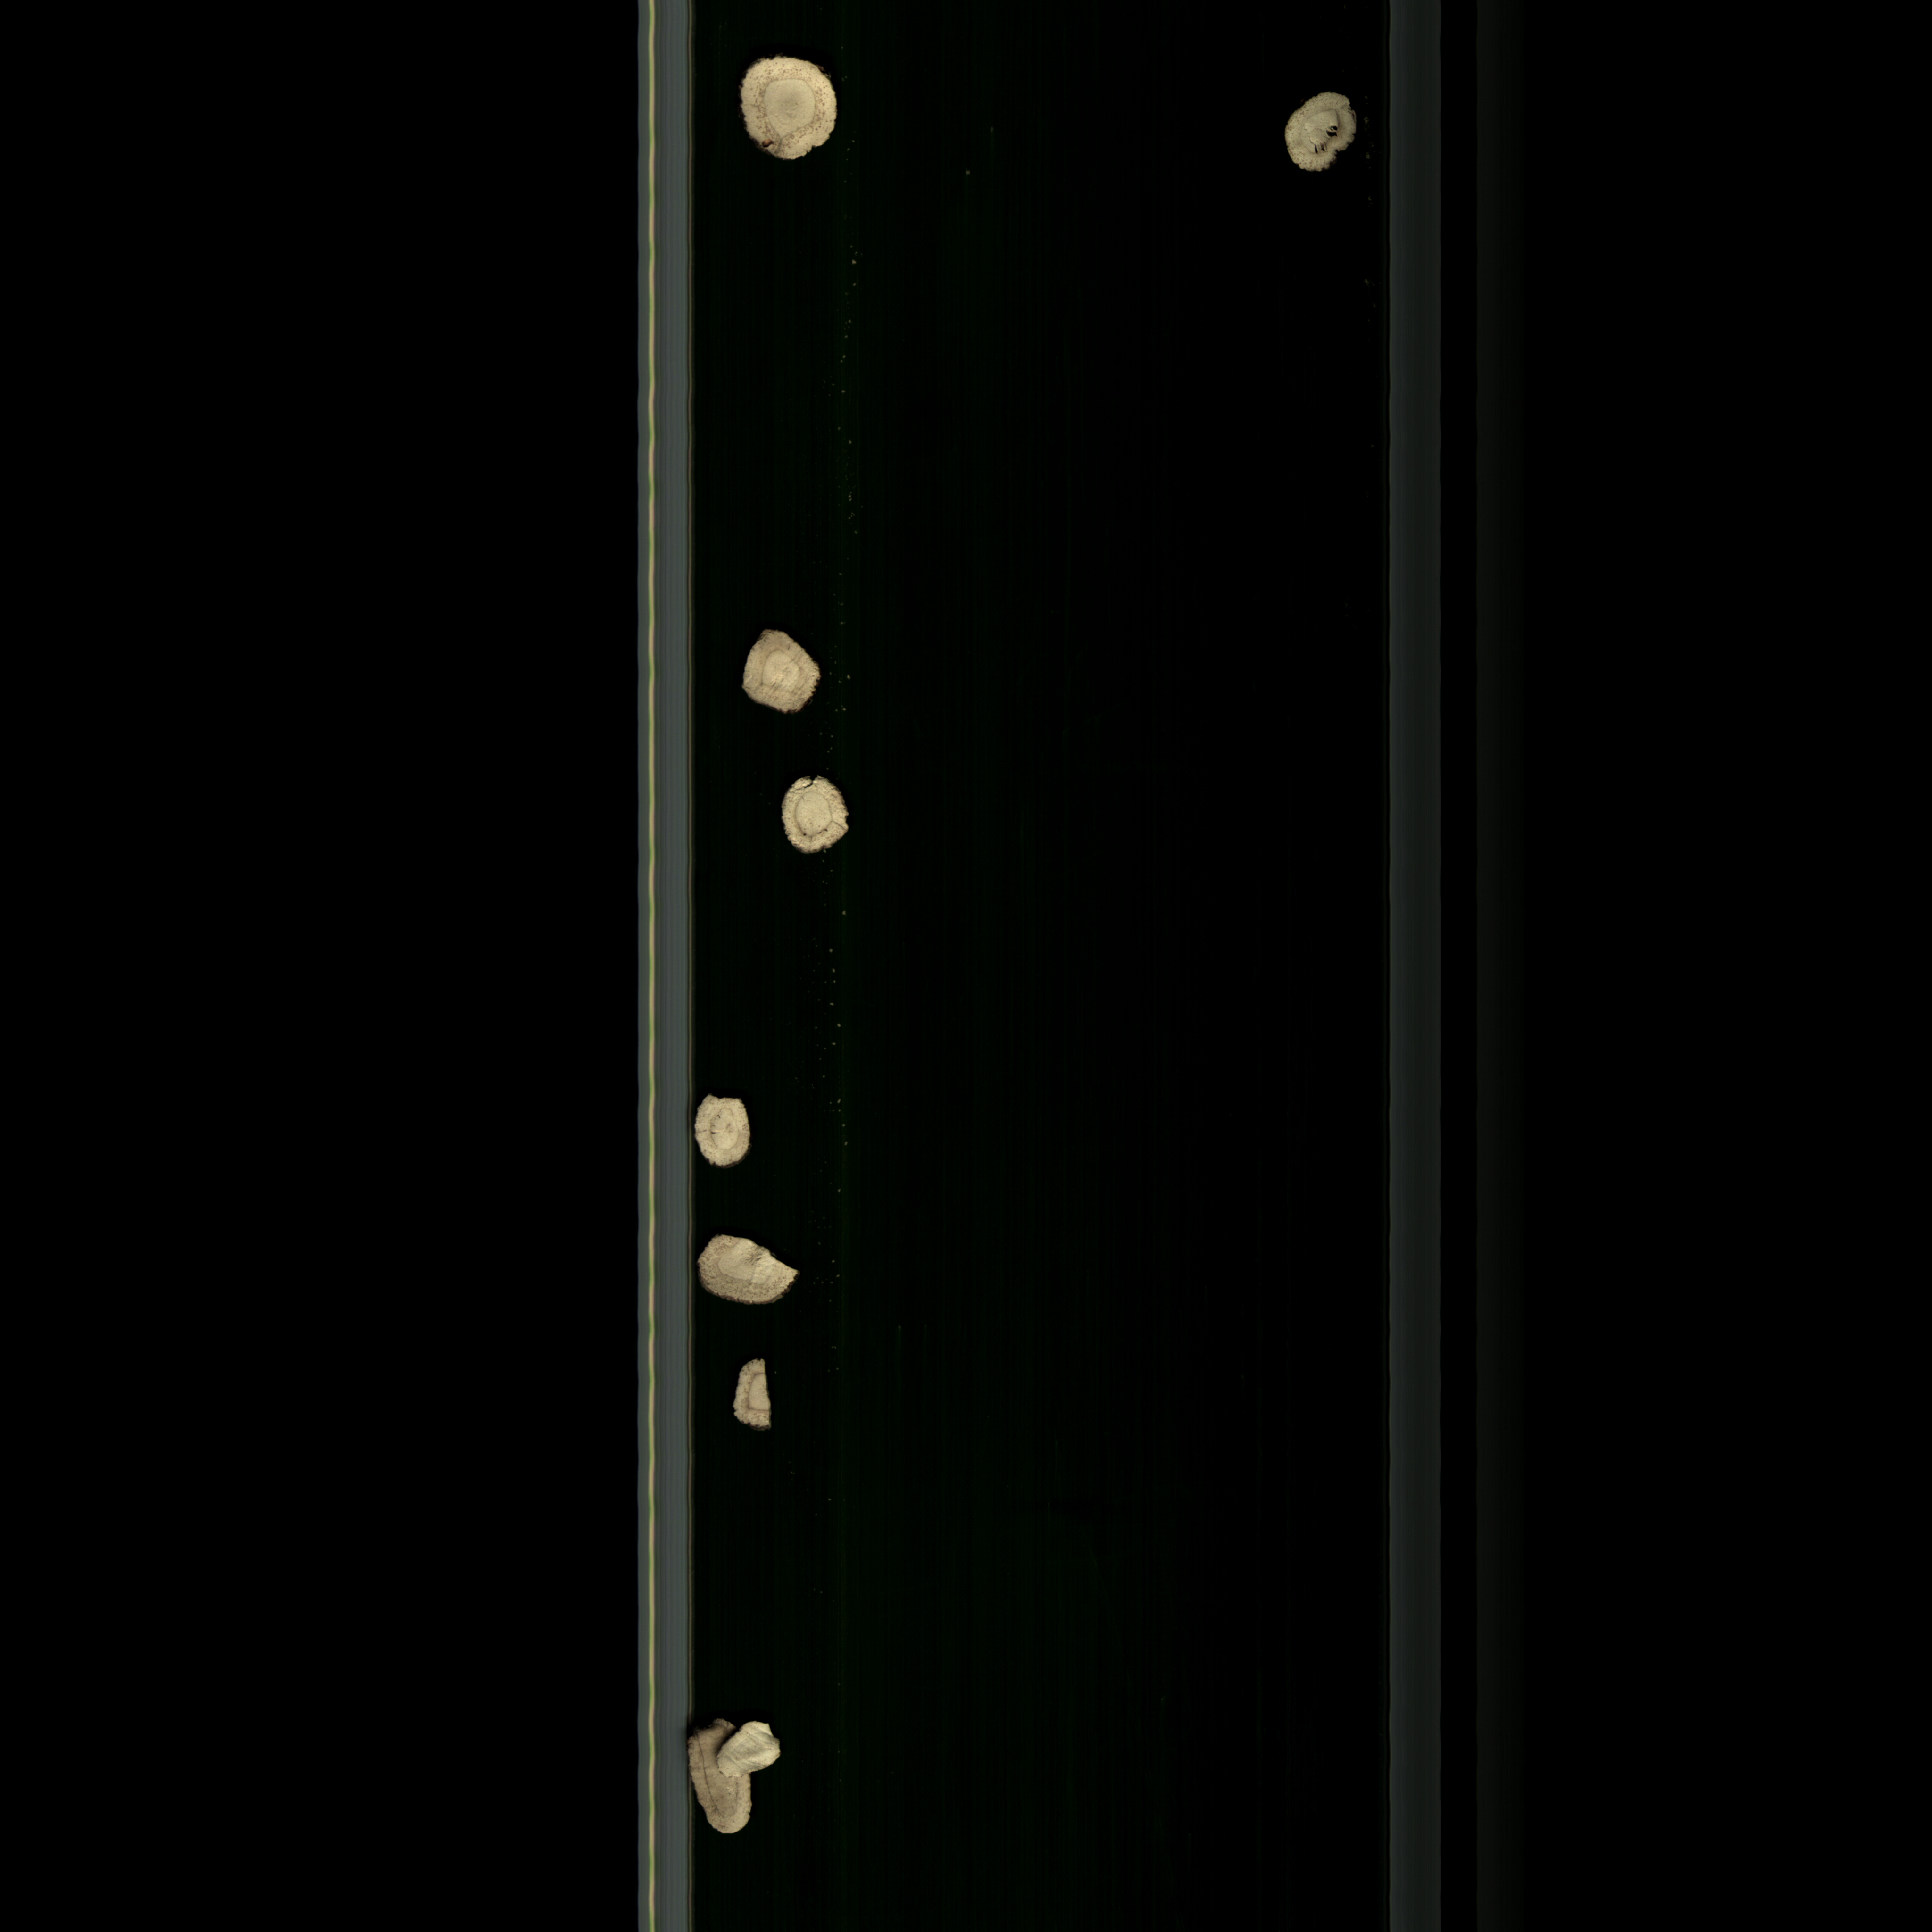debris: (695, 1226, 812, 1309), (718, 1352, 793, 1431), (713, 1718, 793, 1778)
distortion: (685, 1709, 761, 1845)
hole: (770, 766, 862, 865), (692, 1085, 763, 1169)
moldy: (732, 57, 842, 165), (738, 625, 830, 718), (1283, 88, 1353, 182)
